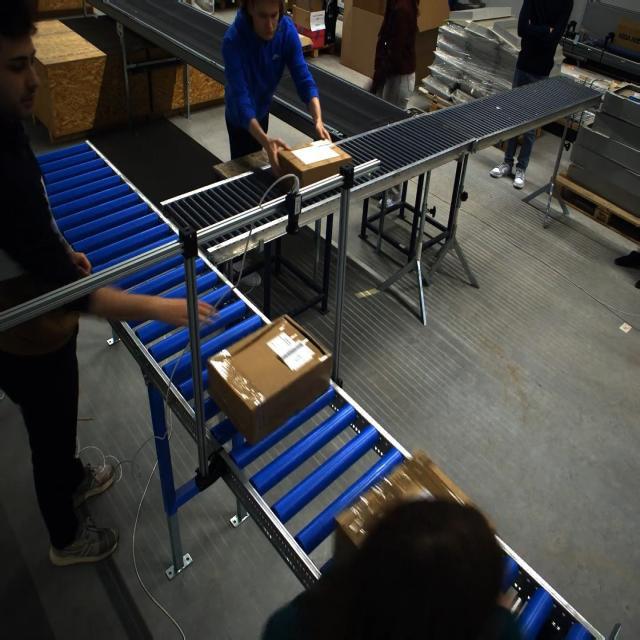box: (332, 445, 467, 570), (208, 314, 332, 444), (276, 139, 348, 188)
